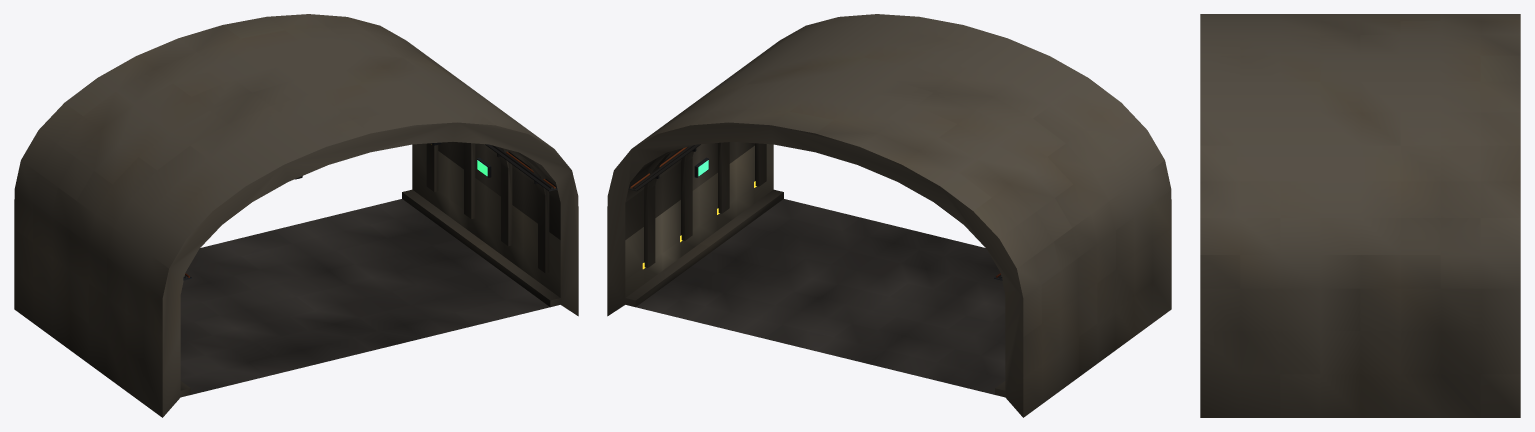
File: tunnel_mid_10m.glb
3 views of the same model, side by side, from view 1: azimuth 30°, elevation 25°; view 2: azimuth 150°, elevation 25°; view 3: azimuth 270°, elevation 25° (orthographic). The views are drawn at different scales.
Visible parts, largest first — view 1: concrete_dark, road_surface, concrete, metal_dark; view 2: concrete_dark, road_surface, concrete, metal_dark; view 3: concrete_dark.
Boxes of the visible parts, x1,y1,x2,y2 form: concrete_dark: (14,14,578,417); road_surface: (180,199,549,394); concrete: (412,143,560,297); metal_dark: (183,142,557,280); concrete_dark: (607,14,1171,417); road_surface: (636,199,1005,394); concrete: (625,144,773,297); metal_dark: (628,144,1002,280); concrete_dark: (1200,14,1520,417).
Size of what is drawn, in the model's own units: 16.2 by 8.7 by 10.
